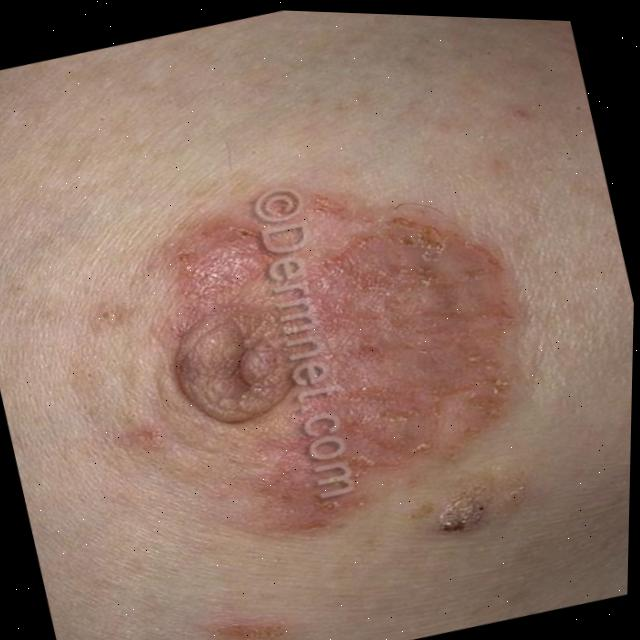Eczema: (63, 138, 593, 640)
